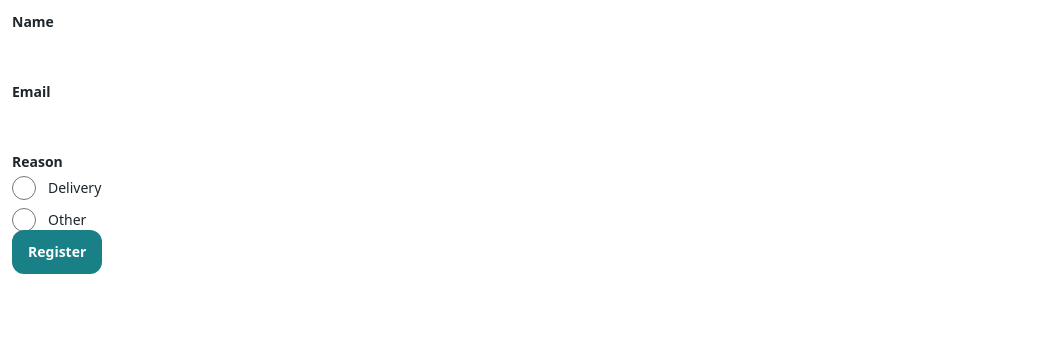
Test: useFormErrors › focuses the first invalid control in document order after failed client validation, once its error shows
This screenshot has width=1048, height=343.
What coordinates should you click on to do the following:
click the button "Register"
I would click on:
 (57, 252)
Its box is left=12, top=230, right=102, bottom=274.
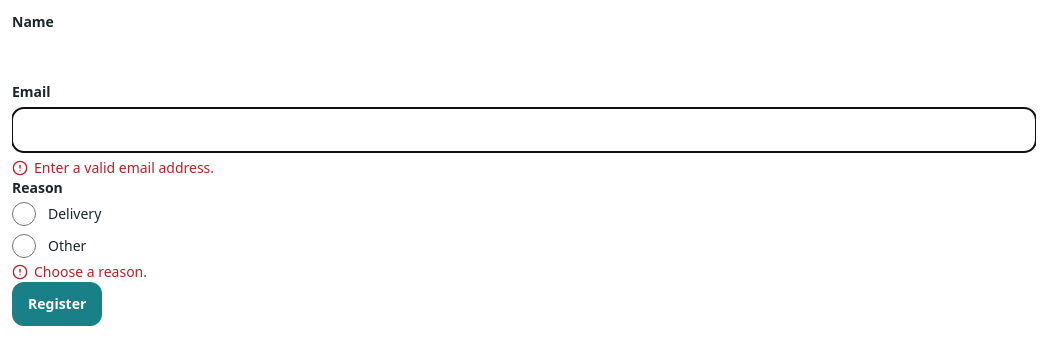
Now the text "Choose a reason." is shown, box left=34, top=262, right=147, bottom=282
